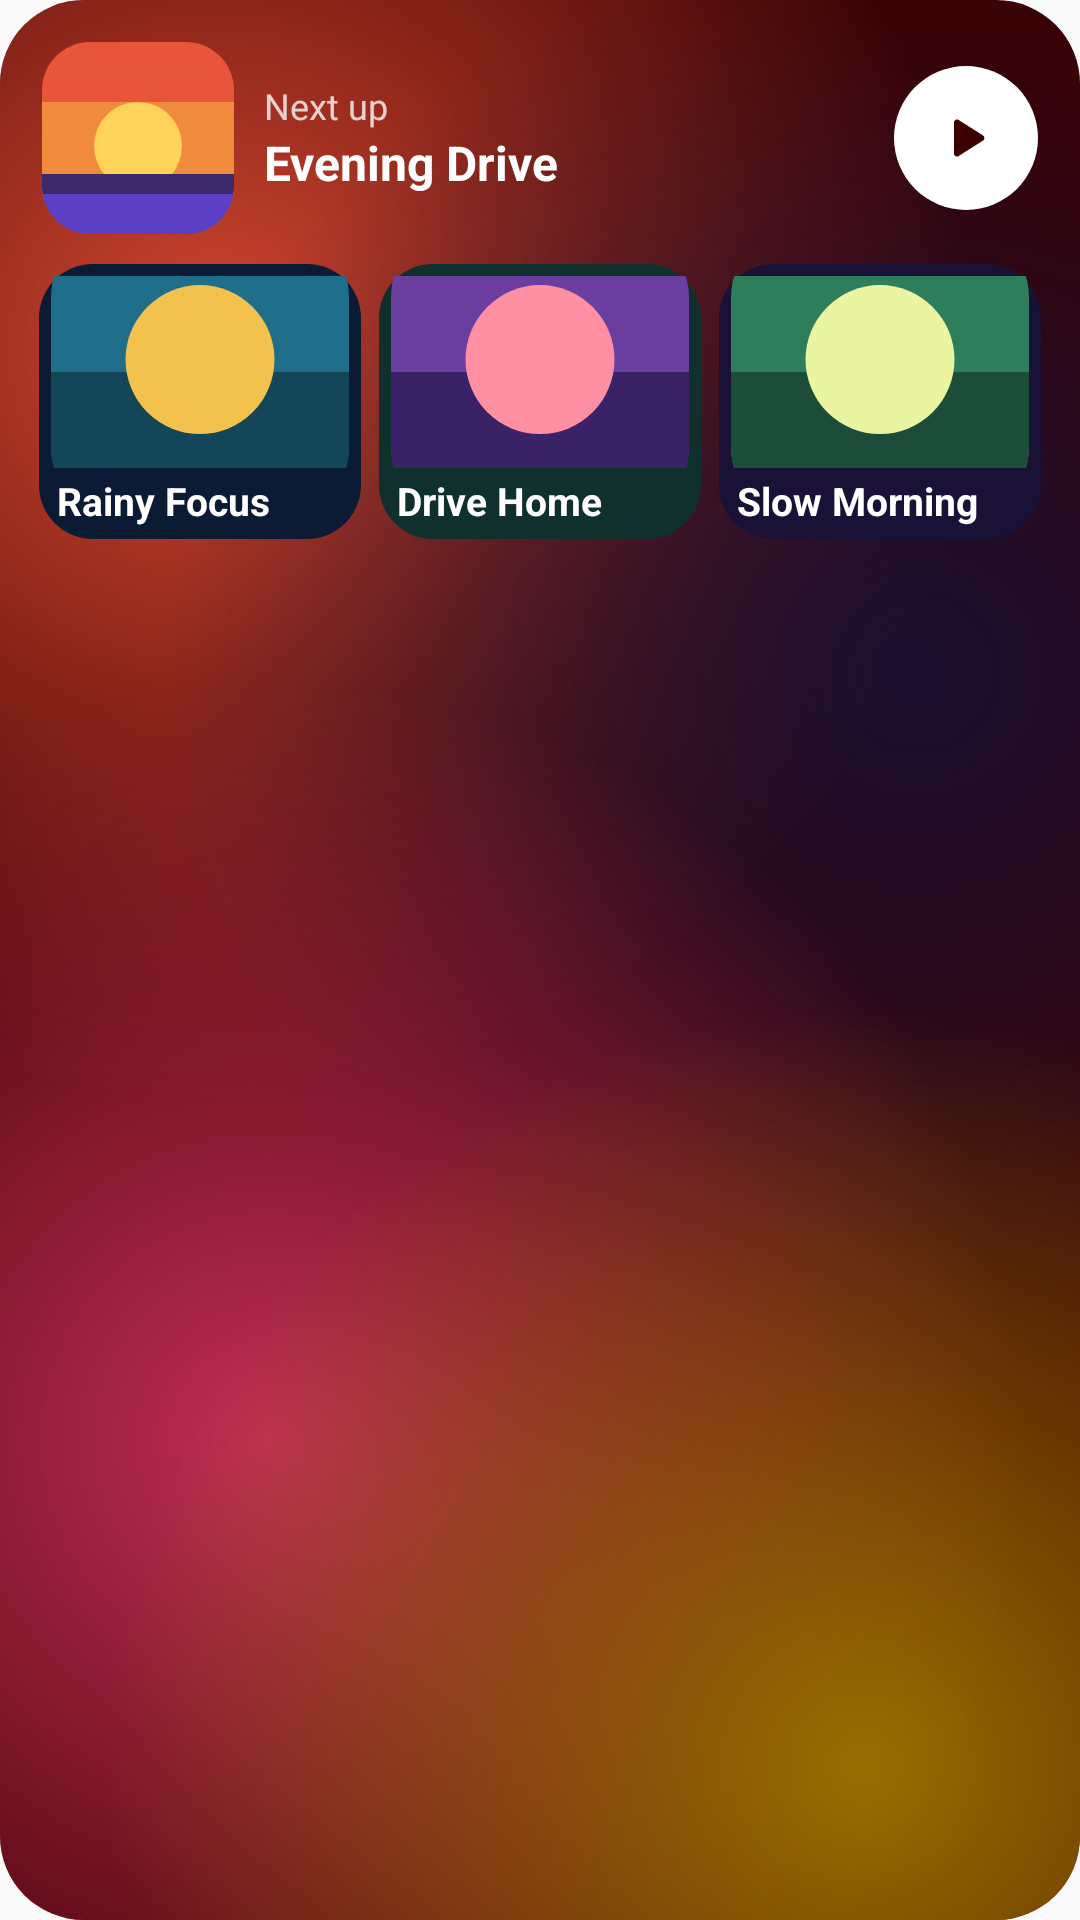

Icons on this 1080 x 1920 Android screen, each with its box as (x1, y1, x2, y2):
sym play arrow: (954, 119, 985, 157)
